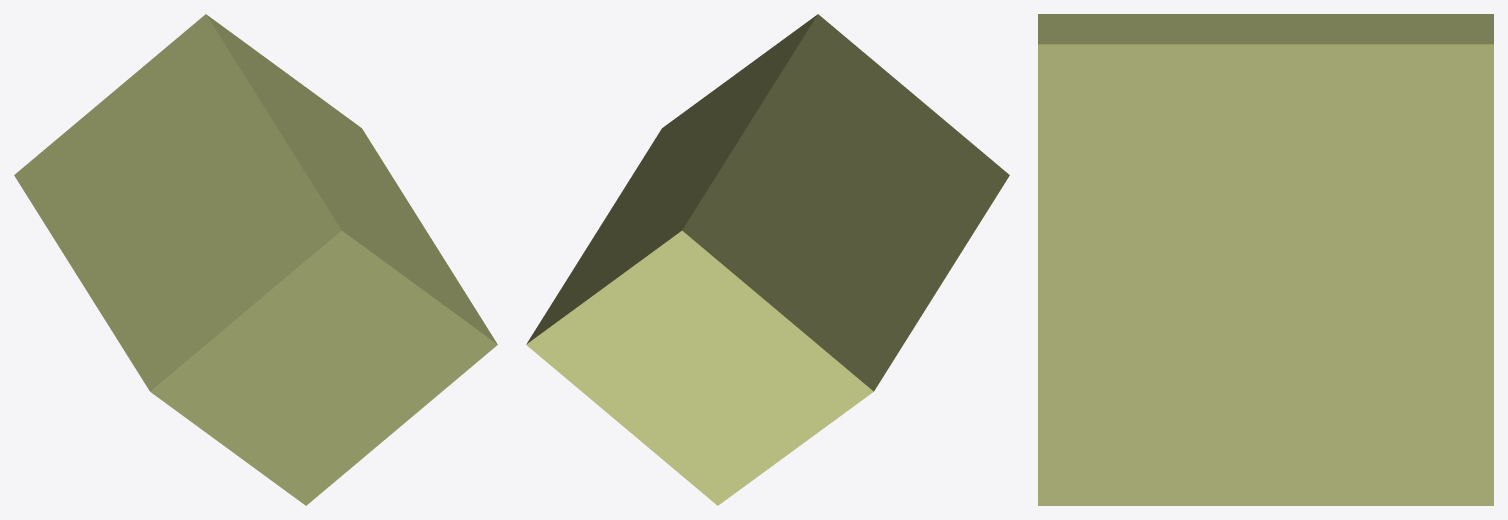
3 views of the same model, side by side, from view 1: azimuth 30°, elevation 25°; view 2: azimuth 150°, elevation 25°; view 3: azimuth 270°, elevation 25° (orthographic). The views are drawn at different scales.
Visible parts, largest first — view 1: 0_2_3_2_1_2_3_1_0_3_1; view 2: 0_2_3_2_1_2_3_1_0_3_1; view 3: 0_2_3_2_1_2_3_1_0_3_1.
Boxes of the visible parts, <box> form: 0_2_3_2_1_2_3_1_0_3_1: <box>14,14,497,505</box>; 0_2_3_2_1_2_3_1_0_3_1: <box>526,14,1009,505</box>; 0_2_3_2_1_2_3_1_0_3_1: <box>1038,14,1493,505</box>.
Bounding box in the file's own units: 7.28 × 7.72 × 6.
